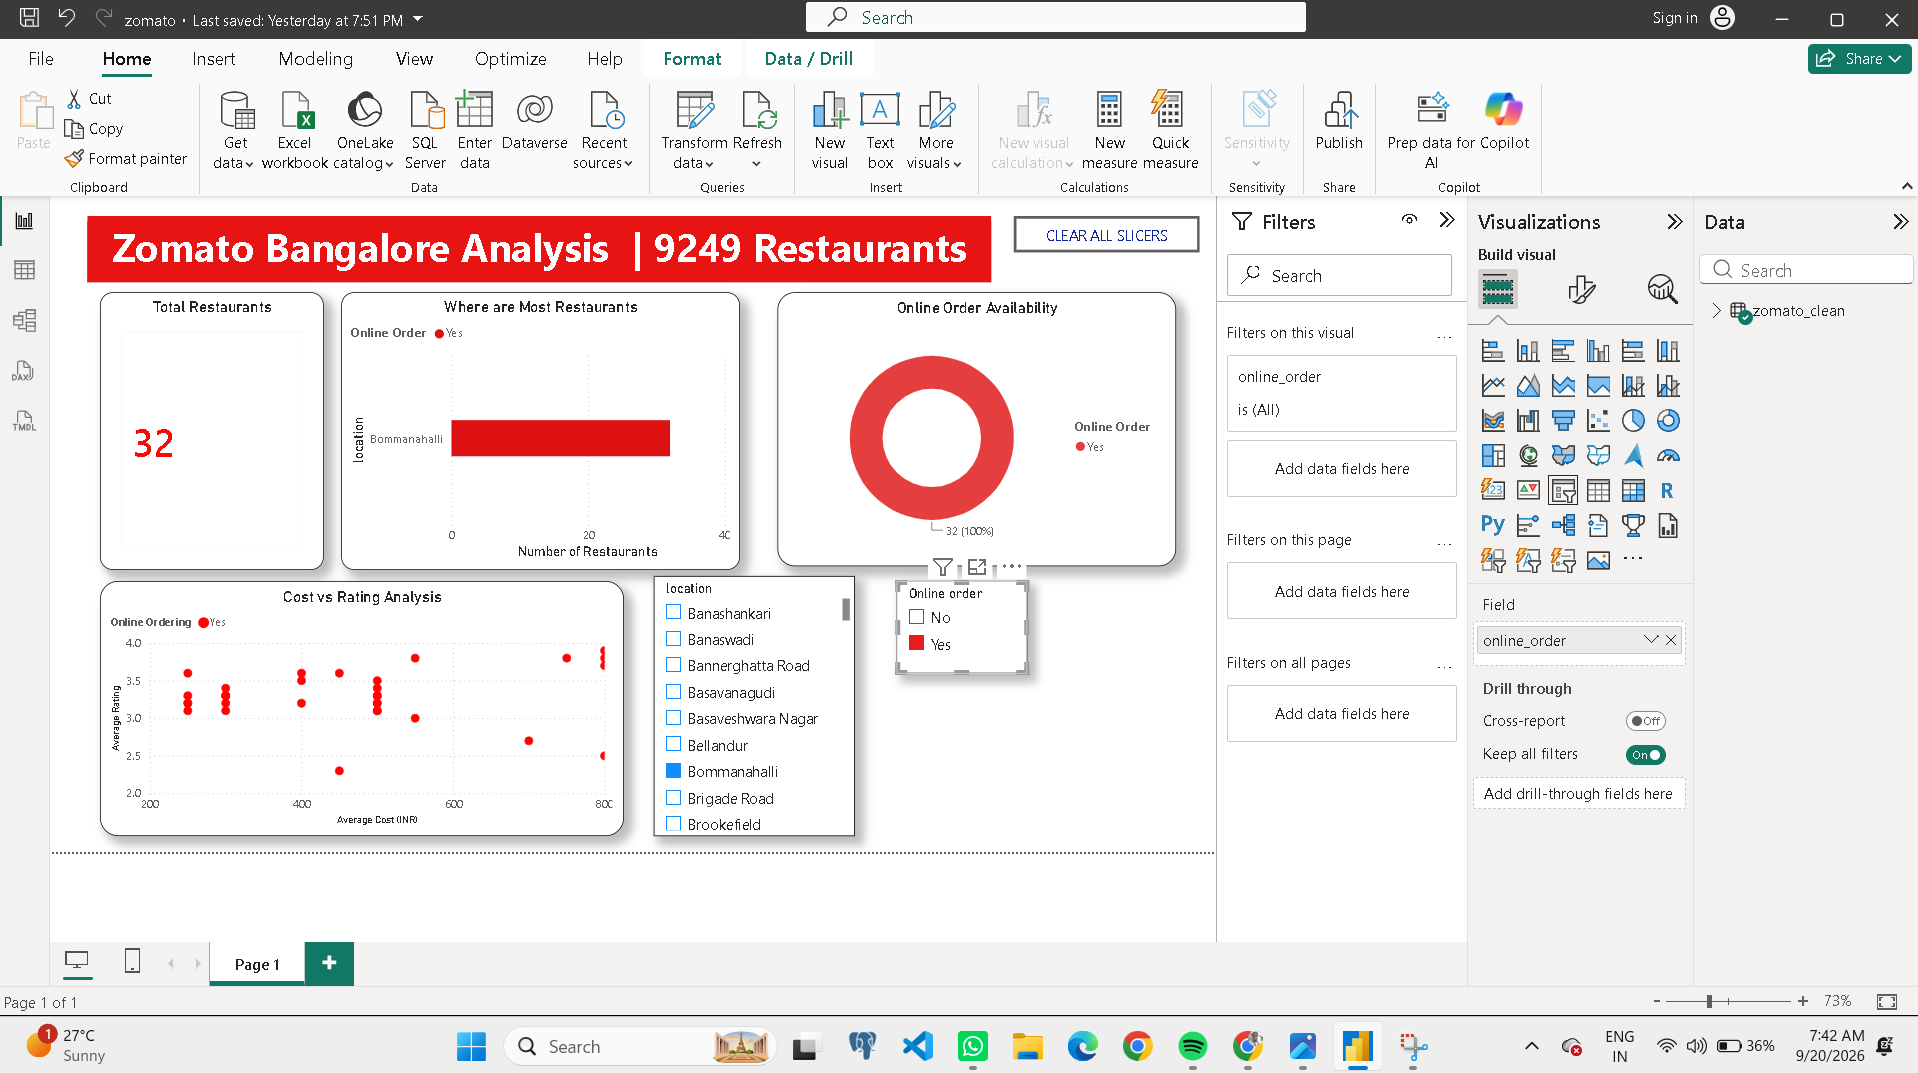

Layout of this report page (visuals, bound fields, positions):
{"tool":"powerbi","page":{"name":"Page 1","canvas":[1280,720],"ordinal":0},"visuals":[{"type":"cardVisual","title":"Total Restaurants","fields":{"Data":["CountNonNull(zomato_clean.name)"]},"box":[54.9,105.7,245.6,304.6],"z":0},{"type":"barChart","title":"Where are Most Restaurants","fields":{"Category":["zomato_clean.location"],"Y":["CountNonNull(zomato_clean.name)"],"Series":["zomato_clean.online_order"]},"box":[319.7,105.7,437.7,304.6],"z":1000},{"type":"donutChart","title":"Online Order Availability","fields":{"Category":["zomato_clean.online_order"],"Y":["CountNonNull(zomato_clean.name)"]},"box":[798.6,105.7,437.7,300.5],"z":2000},{"type":"scatterChart","title":"Cost vs Rating Analysis","fields":{"X":["Avg(zomato_clean.cost)"],"Y":["Avg(zomato_clean.rate)"],"Category":["zomato_clean.name"],"Series":["zomato_clean.online_order"]},"box":[54.9,422.6,575,279.9],"z":3000},{"type":"slicer","fields":{"Values":["zomato_clean.location"]},"box":[662.8,417.2,220.9,285.4],"z":4000},{"type":"actionButton","box":[1058.6,21.4,204.3,40],"z":5000},{"type":"slicer","fields":{"Values":["zomato_clean.online_order"]},"box":[929,422.6,144.1,101.5],"z":6000},{"type":"shape","title":"z","box":[41.2,4.1,992.1,90.6],"z":7000},{"type":"textbox","box":[41.2,22,992.1,72.7],"z":8000}]}

Visuals, with their boxes on the page's 1280x720 design canvas (x1, y1, x2, y2). These are canvas units, not pixel positions in the 1918x1073 screenshot, which may show the page scaled, cropped or inside an application window:
"Total Restaurants" cardVisual: {"left": 55, "top": 106, "right": 300, "bottom": 410}
"Where are Most Restaurants" barChart: {"left": 320, "top": 106, "right": 757, "bottom": 410}
"Online Order Availability" donutChart: {"left": 799, "top": 106, "right": 1236, "bottom": 406}
"Cost vs Rating Analysis" scatterChart: {"left": 55, "top": 423, "right": 630, "bottom": 702}
slicer - zomato_clean.location: {"left": 663, "top": 417, "right": 884, "bottom": 703}
actionButton: {"left": 1059, "top": 21, "right": 1263, "bottom": 61}
slicer - zomato_clean.online_order: {"left": 929, "top": 423, "right": 1073, "bottom": 524}
"z" shape: {"left": 41, "top": 4, "right": 1033, "bottom": 95}
textbox: {"left": 41, "top": 22, "right": 1033, "bottom": 95}
